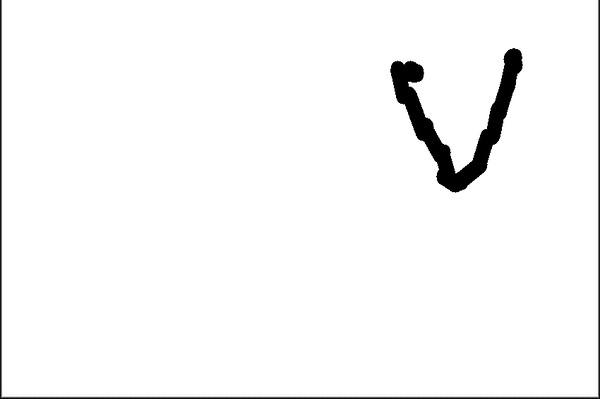V: (381, 39, 530, 200)
